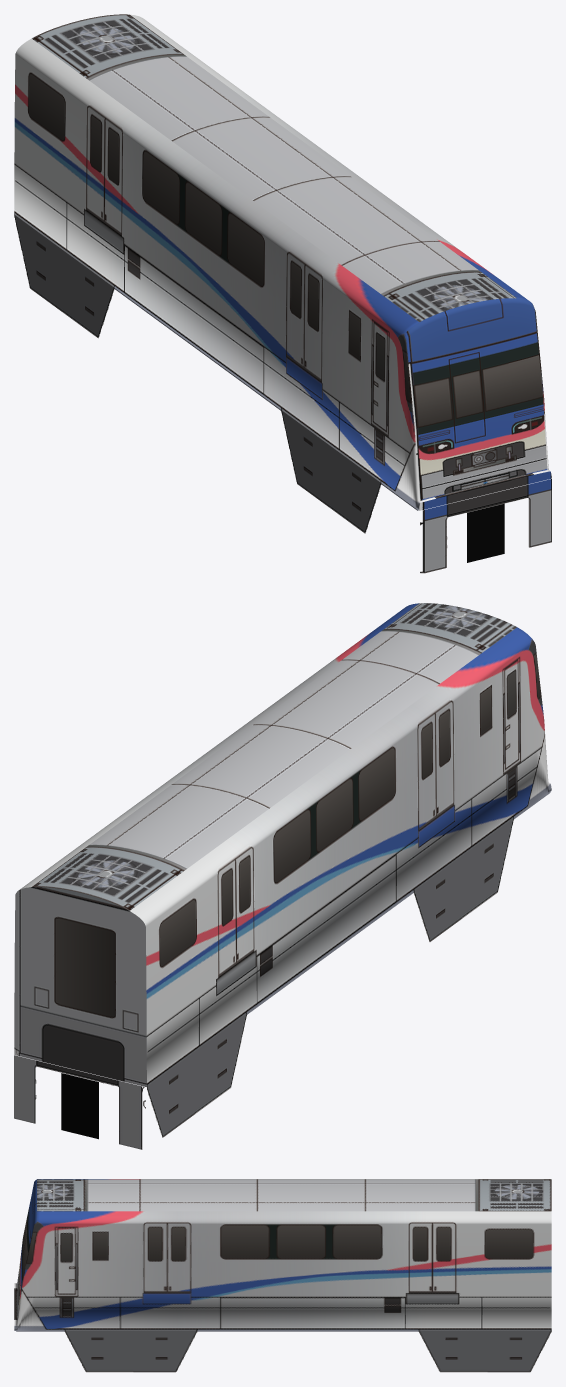
Rendered from car1.glb.
The picture shows the model from 3 angles, top to bottom: view 1: azimuth 30°, elevation 25°; view 2: azimuth 150°, elevation 25°; view 3: azimuth 270°, elevation 25°; orthographic projection. The views are drawn at different scales.
Visible parts, largest first — view 1: osakamono-3000-car1; view 2: osakamono-3000-car1; view 3: osakamono-3000-car1.
Part boxes in pixels (bbox=[...]): osakamono-3000-car1: bbox=[14, 14, 551, 573]; osakamono-3000-car1: bbox=[14, 603, 551, 1149]; osakamono-3000-car1: bbox=[14, 1179, 551, 1372].
Size of the model in its own units: 2.98 by 5.19 by 15.79.
Materials: 8 (7 with a texture image).
